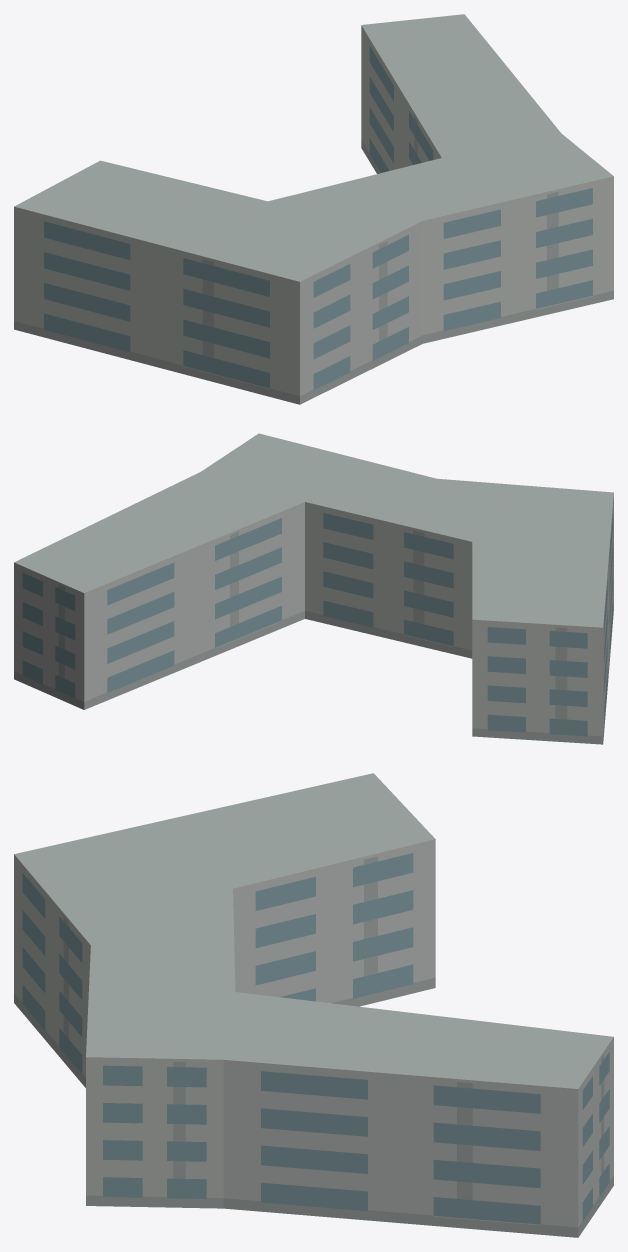
File: residential-51659079-8c96-49f4-a8bc-db252cf84c3d.glb
The picture shows the model from 3 angles, top to bottom: view 1: azimuth 30°, elevation 25°; view 2: azimuth 150°, elevation 25°; view 3: azimuth 270°, elevation 25°; orthographic projection. The views are drawn at different scales.
Parts seen in each view (by area): view 1: residential-51659079-8c96-49f4-a8bc-db252cf84c3d.tmp; view 2: residential-51659079-8c96-49f4-a8bc-db252cf84c3d.tmp; view 3: residential-51659079-8c96-49f4-a8bc-db252cf84c3d.tmp.
Part boxes in pixels (x1,y1,x2,y2): residential-51659079-8c96-49f4-a8bc-db252cf84c3d.tmp: (14, 14, 613, 404); residential-51659079-8c96-49f4-a8bc-db252cf84c3d.tmp: (14, 433, 613, 744); residential-51659079-8c96-49f4-a8bc-db252cf84c3d.tmp: (14, 773, 613, 1237).
Size of the model in its own units: 55.58 by 12.2 by 44.59.
